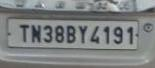1: (125, 25, 135, 45), (102, 25, 112, 44)
3: (41, 24, 53, 42)
4: (89, 24, 101, 43)
8: (54, 24, 64, 43)
9: (111, 25, 124, 44)
B: (65, 24, 76, 43)
N: (29, 23, 42, 43)
T: (18, 23, 30, 42)
Y: (77, 24, 88, 43)
